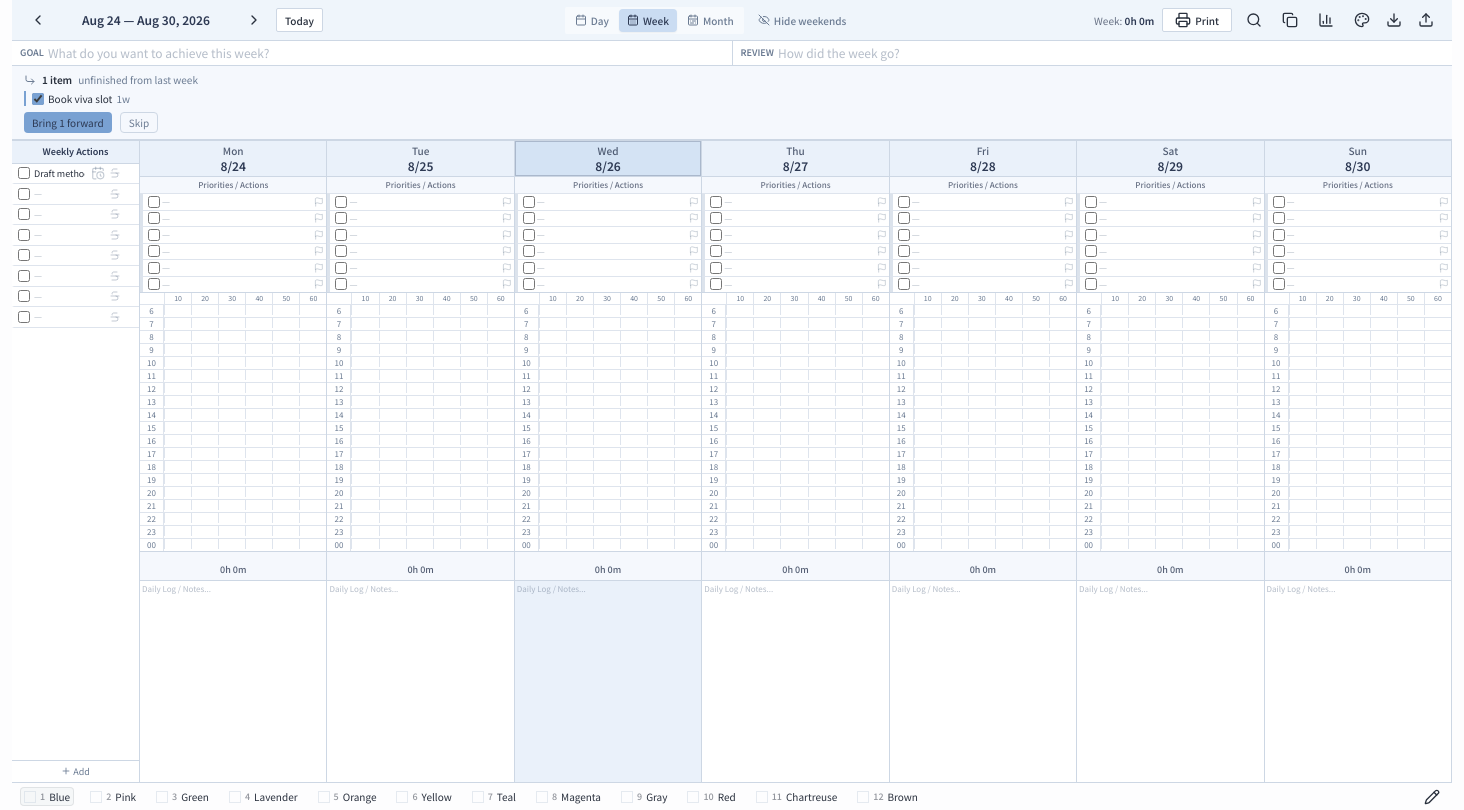
it: StudyPlanner carry-forward › resets the tick state when navigating to a week with its own candidates
Untick the only candidate in this week's bar, without pressing Bring.
Click the checkbox labelled "Book viva slot 1w" at (38, 98), box top-left (32, 92), bottom-right (44, 104)
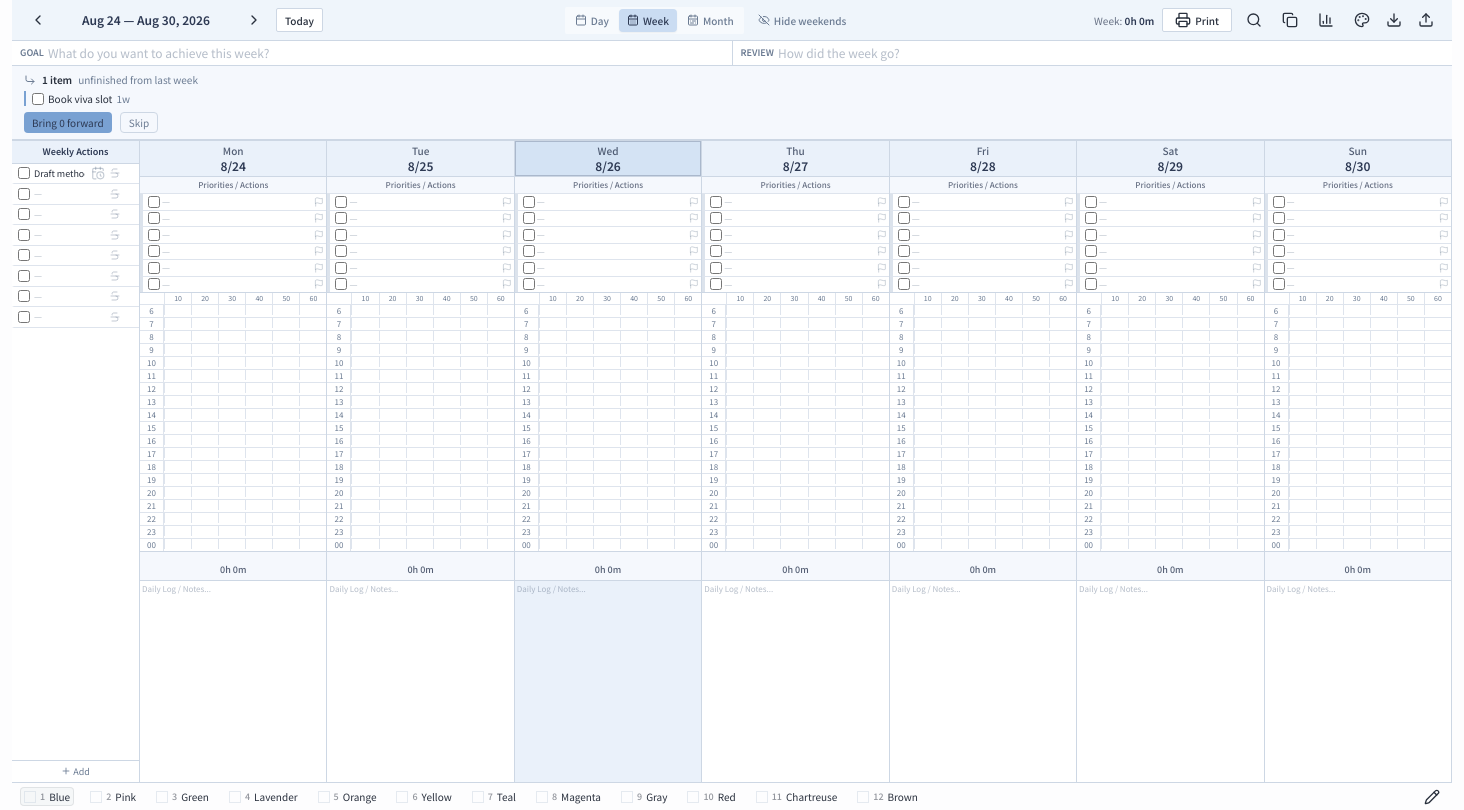
Click the button named "Next week" at (254, 20), box top-left (240, 6), bottom-right (268, 34)
Wait 400 ms
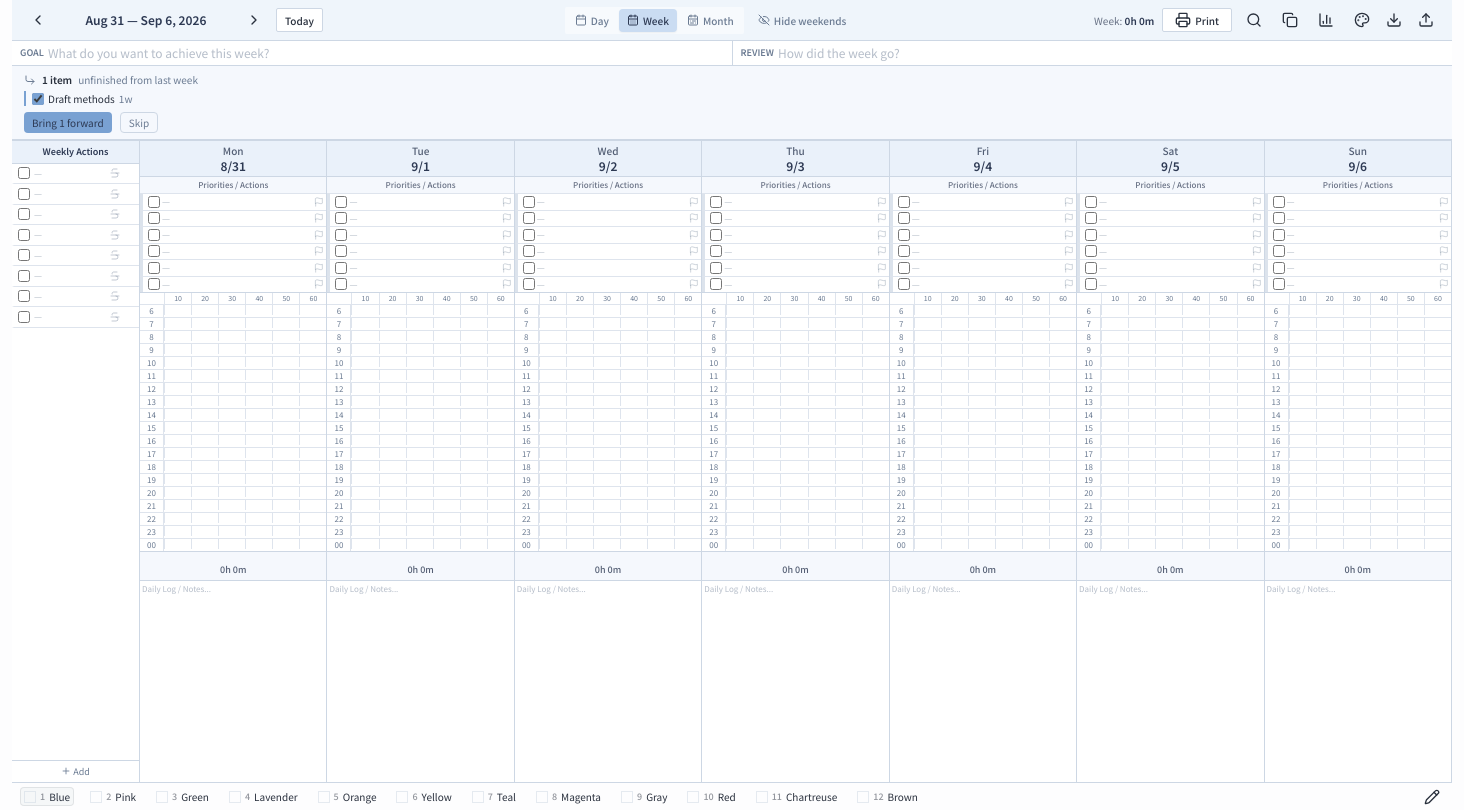
Expected: the text "Draft methods" is shown, top-left (48, 91), bottom-right (115, 106)
